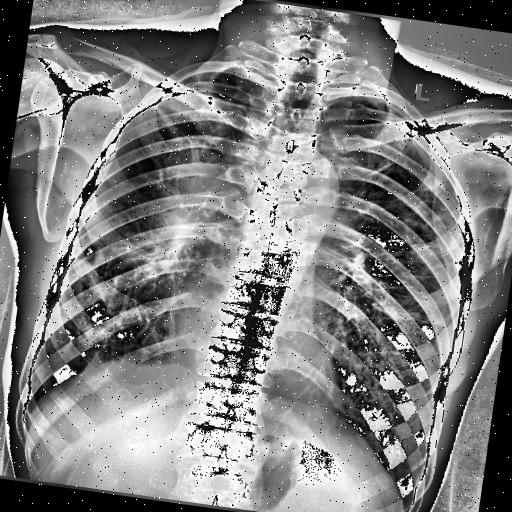11- Pleural thickening: (79, 348, 119, 378), (84, 344, 110, 378), (359, 94, 399, 112)
13- Pulmonary fibrosis: (104, 124, 252, 302), (144, 102, 225, 174), (402, 169, 468, 255), (146, 104, 190, 150), (140, 103, 186, 144), (376, 311, 440, 330), (404, 236, 440, 254), (432, 255, 469, 272)
7- Lung Opacity: (104, 124, 252, 302), (134, 147, 223, 286), (146, 104, 190, 150)
8- Nodule-Mass: (158, 156, 258, 256)
